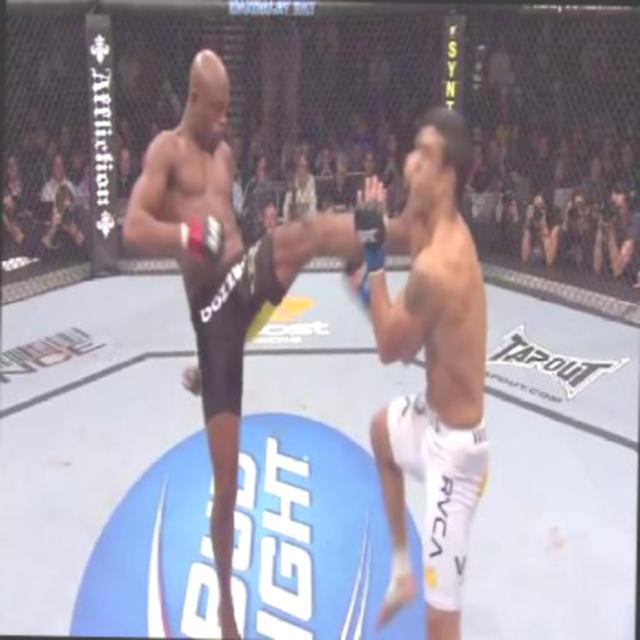fight: (118, 49, 497, 638)
